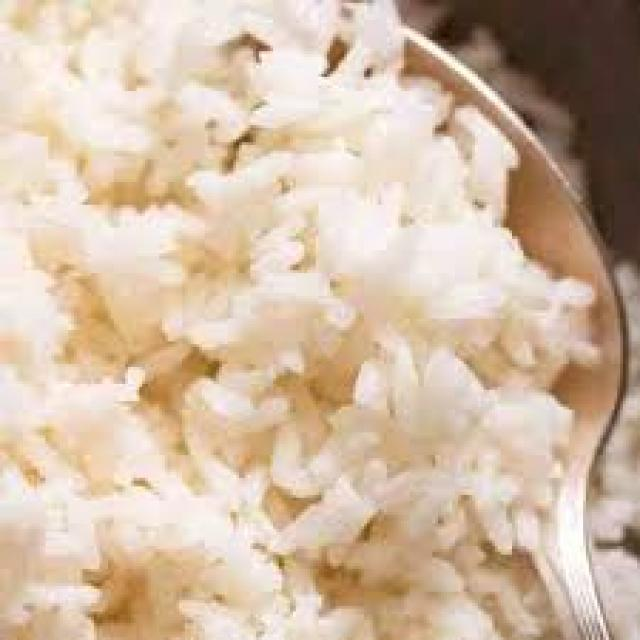White Rice: (2, 0, 594, 640)
